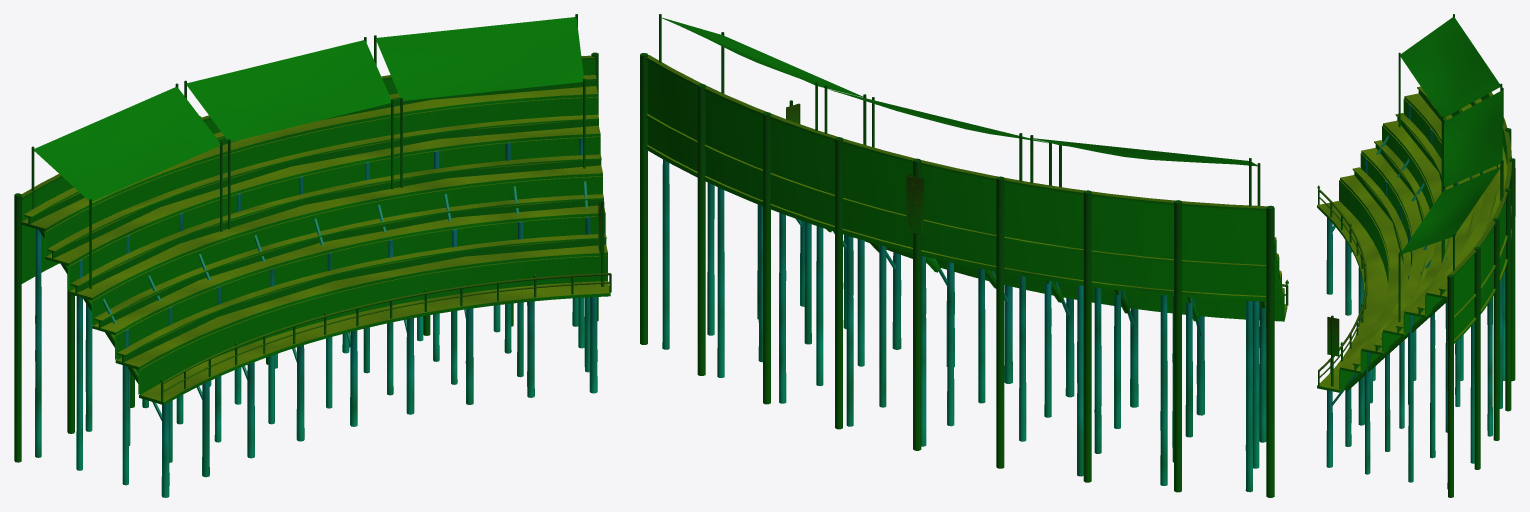
The model's file is gallery_segment_c.glb.
3 renders of one model, left to right at view 1: azimuth 30°, elevation 25°; view 2: azimuth 150°, elevation 25°; view 3: azimuth 270°, elevation 25°, orthographic. The views are drawn at different scales.
Parts seen in each view (by area): view 1: gallery_segment_c; view 2: gallery_segment_c; view 3: gallery_segment_c.
Part boxes in pixels (left/top/right/bottom): gallery_segment_c: left=14, top=14, right=611, bottom=497; gallery_segment_c: left=640, top=14, right=1288, bottom=497; gallery_segment_c: left=1317, top=14, right=1515, bottom=497.
Size of what is drawn, in the model's own units: 35.33 by 17.85 by 12.58.
